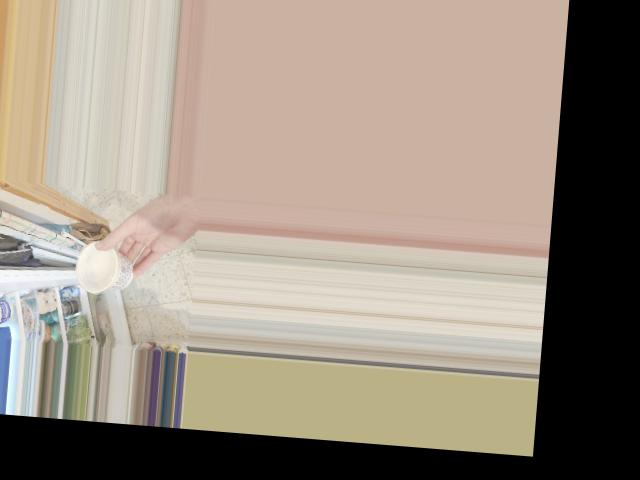cotage: (77, 245, 135, 294)
